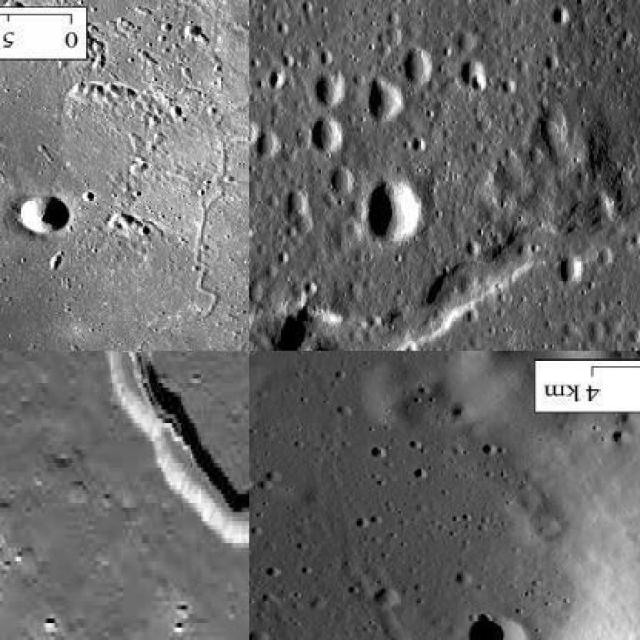rille: (43, 0, 248, 349), (86, 351, 248, 638), (298, 238, 540, 349), (350, 554, 522, 638)
